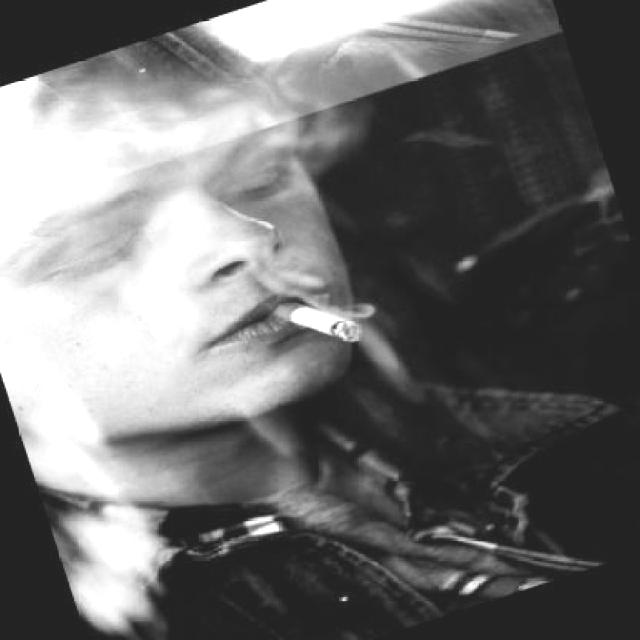smoke: (264, 280, 370, 371)
